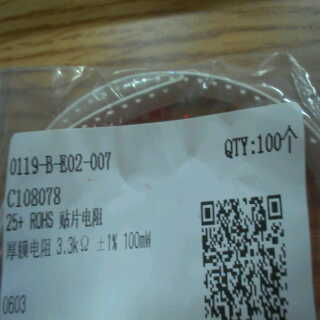3.3kO: (53, 233, 91, 259)
